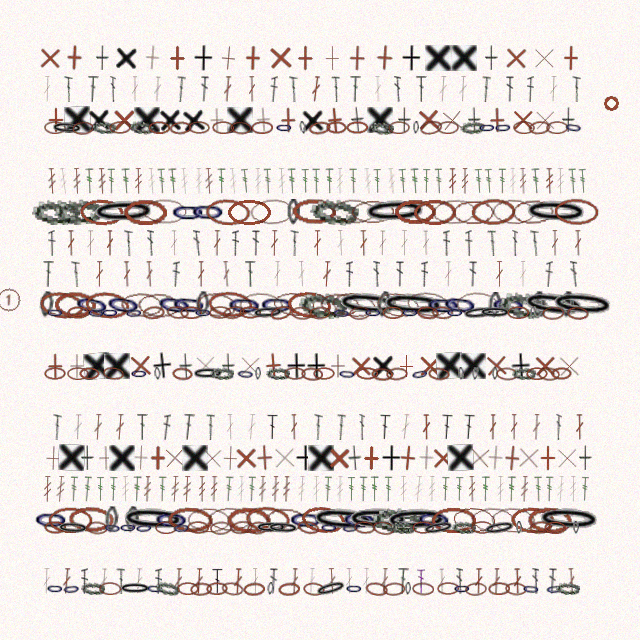chain: (520, 288, 587, 322), (335, 289, 402, 320), (549, 289, 616, 320), (380, 290, 446, 320), (310, 505, 376, 535), (362, 197, 428, 226), (120, 505, 186, 534), (536, 505, 602, 534), (523, 198, 589, 226), (91, 198, 156, 226), (384, 506, 449, 534), (346, 506, 411, 533), (38, 289, 86, 321), (374, 289, 421, 321), (298, 290, 348, 320), (498, 290, 548, 320), (330, 289, 377, 320), (194, 289, 240, 320), (405, 289, 451, 320), (300, 504, 346, 535), (54, 197, 103, 226), (310, 197, 359, 226), (84, 290, 131, 320), (207, 290, 254, 319), (271, 290, 317, 319), (286, 290, 332, 319), (455, 290, 501, 319), (451, 505, 497, 534), (119, 290, 164, 319), (245, 505, 290, 534), (79, 198, 125, 226), (205, 198, 251, 226), (431, 198, 477, 226), (238, 291, 284, 319), (167, 506, 213, 534), (470, 506, 516, 534), (490, 506, 536, 534), (510, 506, 556, 534), (72, 289, 112, 321), (136, 291, 181, 319), (186, 506, 231, 534), (226, 506, 271, 534), (527, 506, 572, 534), (32, 199, 80, 225), (372, 507, 420, 533), (249, 198, 295, 225), (68, 506, 114, 533), (207, 506, 253, 533), (318, 291, 362, 319), (264, 506, 308, 534), (142, 198, 187, 225), (331, 198, 376, 225), (471, 198, 516, 225), (491, 198, 536, 225), (510, 198, 555, 225), (554, 198, 599, 225), (104, 289, 143, 320), (155, 289, 194, 320), (292, 198, 336, 225), (350, 199, 395, 225), (48, 507, 93, 533), (431, 507, 476, 533), (54, 291, 97, 318), (123, 199, 167, 225), (227, 199, 271, 225), (413, 199, 457, 225), (451, 199, 495, 225), (394, 199, 437, 225), (170, 290, 208, 319), (441, 290, 479, 319), (415, 505, 453, 534), (226, 291, 263, 319), (425, 291, 462, 319), (490, 291, 527, 319), (153, 506, 190, 533), (341, 506, 378, 533), (190, 198, 226, 225), (259, 291, 295, 318), (33, 506, 69, 533), (288, 506, 324, 533), (170, 199, 206, 225), (314, 578, 348, 599), (422, 519, 455, 537), (483, 519, 516, 537), (462, 305, 495, 321), (252, 305, 284, 320), (269, 303, 293, 322), (51, 121, 83, 135), (57, 521, 89, 535), (267, 521, 299, 535), (376, 291, 392, 318), (124, 506, 140, 533), (155, 580, 180, 597), (479, 306, 511, 319), (192, 367, 224, 380), (255, 521, 287, 534), (119, 582, 151, 595), (419, 119, 443, 136), (222, 304, 246, 321), (296, 519, 320, 536), (39, 291, 54, 318), (195, 291, 210, 318), (531, 291, 546, 318), (560, 291, 575, 318), (104, 506, 119, 533), (129, 120, 154, 135), (460, 120, 485, 135), (308, 120, 331, 136), (372, 520, 395, 536), (221, 581, 244, 597), (365, 581, 388, 597), (488, 292, 502, 318), (528, 120, 551, 135), (142, 305, 165, 320), (166, 305, 189, 320), (416, 305, 439, 320), (431, 305, 454, 320), (102, 366, 125, 381), (230, 520, 253, 535), (353, 520, 376, 535), (529, 520, 552, 535), (287, 199, 300, 225), (370, 121, 394, 135), (169, 121, 192, 135), (566, 306, 589, 320), (410, 366, 430, 382), (92, 121, 116, 134), (210, 367, 234, 380), (266, 367, 290, 380), (512, 367, 536, 380), (391, 521, 415, 534), (452, 521, 476, 534), (81, 582, 105, 595), (556, 582, 580, 595), (72, 121, 94, 135), (230, 121, 252, 135), (291, 306, 313, 320), (309, 306, 331, 320), (349, 306, 371, 320), (542, 306, 564, 320), (301, 367, 323, 381), (371, 367, 393, 381), (386, 367, 408, 381), (428, 367, 450, 381), (496, 367, 518, 381), (538, 367, 560, 381), (86, 521, 108, 535), (210, 521, 232, 535), (247, 521, 269, 535), (190, 582, 212, 596), (243, 582, 265, 596), (278, 582, 300, 596), (303, 582, 325, 596), (383, 582, 405, 596), (412, 582, 434, 596), (465, 582, 487, 596), (505, 582, 527, 596), (172, 367, 193, 381), (44, 121, 66, 134), (109, 121, 131, 134), (148, 121, 170, 134), (188, 121, 210, 134), (212, 121, 234, 134), (251, 121, 273, 134), (346, 121, 368, 134), (388, 121, 410, 134), (437, 121, 459, 134), (513, 121, 535, 134), (546, 121, 568, 134), (67, 306, 89, 319), (180, 306, 202, 319), (209, 306, 231, 319), (239, 306, 261, 319), (382, 306, 404, 319), (507, 306, 529, 319), (44, 367, 66, 380), (67, 367, 89, 380), (284, 367, 306, 380), (313, 367, 335, 380), (356, 367, 378, 380), (526, 367, 548, 380), (44, 521, 66, 534), (155, 521, 177, 534), (187, 521, 209, 534), (412, 521, 434, 534), (471, 521, 493, 534), (544, 521, 566, 534), (99, 582, 121, 595), (177, 582, 199, 595), (206, 582, 228, 595), (437, 582, 459, 595), (488, 582, 510, 595), (564, 120, 583, 135), (326, 121, 347, 134), (79, 367, 100, 380), (551, 367, 572, 380), (332, 306, 351, 320), (236, 367, 255, 381), (103, 521, 122, 535), (172, 521, 191, 535), (341, 521, 360, 535), (62, 582, 81, 596), (545, 582, 564, 596), (87, 306, 105, 320), (125, 306, 143, 320), (338, 367, 356, 381), (135, 521, 153, 535), (522, 582, 540, 596), (275, 121, 293, 134), (478, 121, 496, 134), (494, 121, 512, 134), (46, 306, 64, 319), (101, 306, 119, 319), (194, 306, 212, 319), (364, 306, 382, 319), (401, 306, 419, 319), (446, 306, 464, 319), (130, 367, 148, 380), (119, 521, 137, 534), (320, 521, 338, 534), (46, 582, 64, 595), (146, 582, 164, 595), (345, 582, 363, 595), (453, 582, 471, 595), (299, 121, 307, 134), (154, 367, 161, 380), (472, 367, 479, 380), (267, 582, 274, 595), (413, 121, 419, 134), (530, 306, 536, 319), (255, 367, 261, 380), (458, 367, 464, 380), (492, 367, 498, 380), (516, 521, 522, 534), (573, 521, 579, 534), (405, 582, 411, 595)
double: (182, 414, 195, 440), (87, 76, 99, 102), (310, 76, 322, 102), (379, 414, 391, 440), (441, 414, 453, 440), (463, 414, 475, 440), (397, 568, 409, 594), (175, 76, 186, 102), (350, 76, 361, 102), (416, 76, 427, 102), (480, 76, 491, 102), (43, 261, 54, 287), (245, 261, 256, 287), (137, 414, 148, 440), (246, 414, 257, 440), (267, 414, 278, 440), (335, 414, 346, 440), (400, 414, 411, 440), (61, 568, 72, 594), (133, 568, 144, 594), (212, 568, 223, 594), (438, 76, 448, 102), (458, 76, 468, 102), (487, 230, 497, 256), (530, 230, 540, 256), (71, 261, 81, 287), (322, 261, 332, 287), (52, 414, 62, 440), (73, 414, 83, 440), (93, 414, 103, 440), (115, 414, 125, 440), (205, 414, 215, 440), (313, 414, 323, 440), (194, 568, 204, 594), (233, 568, 243, 594), (327, 568, 337, 594), (64, 76, 73, 102), (153, 76, 162, 102), (200, 76, 209, 102), (223, 76, 232, 102), (289, 76, 298, 102), (331, 76, 340, 102), (549, 76, 558, 102), (572, 76, 581, 102), (86, 230, 95, 256), (124, 230, 133, 256), (270, 230, 279, 256), (290, 230, 299, 256), (313, 230, 322, 256), (336, 230, 345, 256), (359, 230, 368, 256), (378, 230, 387, 256), (400, 230, 409, 256), (95, 261, 104, 287), (145, 261, 154, 287), (222, 261, 231, 287), (297, 261, 306, 287), (495, 261, 504, 287), (162, 414, 171, 440), (422, 414, 431, 440), (532, 414, 541, 440), (575, 414, 584, 440), (42, 568, 51, 594), (99, 568, 108, 594), (116, 568, 125, 594), (174, 568, 183, 594), (269, 568, 278, 594), (290, 568, 299, 594), (307, 568, 316, 594), (380, 568, 389, 594), (474, 568, 483, 594), (492, 568, 501, 594), (513, 568, 522, 594), (548, 568, 557, 594), (567, 568, 576, 594), (43, 76, 51, 102), (131, 76, 139, 102), (248, 76, 256, 102), (270, 76, 278, 102), (374, 76, 382, 102), (506, 76, 514, 102), (48, 230, 56, 256), (67, 230, 75, 256), (106, 230, 114, 256), (170, 230, 178, 256), (193, 230, 201, 256), (213, 230, 221, 256), (252, 230, 260, 256), (422, 230, 430, 256), (465, 230, 473, 256), (551, 230, 559, 256), (574, 230, 582, 256), (123, 261, 131, 287), (172, 261, 180, 287), (197, 261, 205, 287), (273, 261, 281, 287), (396, 261, 404, 287), (444, 261, 452, 287), (469, 261, 477, 287), (519, 261, 527, 287), (545, 261, 553, 287), (570, 261, 578, 287), (226, 414, 234, 440), (290, 414, 298, 440), (489, 414, 497, 440), (510, 414, 518, 440), (251, 568, 259, 594), (345, 568, 353, 594), (362, 568, 370, 594), (417, 568, 425, 594), (438, 568, 446, 594), (394, 76, 401, 102), (527, 76, 534, 102), (147, 230, 154, 256), (232, 230, 239, 256), (443, 230, 450, 256), (346, 261, 353, 287), (373, 261, 380, 287), (421, 261, 428, 287), (555, 414, 562, 440), (81, 568, 88, 594), (155, 568, 162, 594), (456, 568, 463, 594), (532, 568, 539, 594), (110, 76, 116, 102), (512, 230, 518, 256), (359, 414, 365, 440)
noise: (0, 286, 23, 314), (601, 93, 621, 113)
single: (214, 44, 242, 72), (321, 106, 349, 134), (438, 106, 466, 134), (83, 352, 111, 380), (394, 444, 422, 472), (498, 444, 526, 472), (61, 44, 88, 71), (139, 44, 166, 71), (267, 44, 294, 71), (371, 44, 398, 71), (64, 106, 91, 133), (250, 106, 277, 133), (415, 106, 442, 133), (127, 352, 154, 379), (192, 352, 219, 379), (260, 352, 287, 379), (436, 352, 463, 379), (483, 352, 510, 379), (58, 444, 85, 471), (161, 444, 188, 471), (251, 444, 278, 471), (271, 444, 298, 471), (413, 444, 440, 471), (447, 444, 474, 471), (466, 444, 493, 471), (482, 444, 509, 471), (515, 444, 542, 471), (181, 106, 207, 134), (128, 444, 154, 471), (37, 45, 63, 71), (164, 45, 190, 71), (240, 45, 266, 71), (292, 45, 318, 71), (319, 45, 345, 71), (344, 45, 370, 71), (425, 45, 451, 71), (451, 45, 477, 71), (503, 45, 529, 71), (531, 45, 557, 71), (558, 45, 584, 71), (43, 107, 69, 133), (111, 107, 137, 133), (134, 107, 160, 133), (204, 107, 230, 133), (227, 107, 253, 133), (275, 107, 301, 133), (367, 107, 393, 133), (484, 107, 510, 133), (510, 107, 536, 133), (532, 107, 558, 133), (42, 353, 68, 379), (64, 353, 90, 379), (104, 353, 130, 379), (237, 353, 263, 379), (325, 353, 351, 379), (348, 353, 374, 379), (393, 353, 419, 379), (417, 353, 443, 379), (460, 353, 486, 379), (532, 353, 558, 379), (556, 353, 582, 379), (40, 445, 66, 471), (93, 445, 119, 471), (109, 445, 135, 471), (145, 445, 171, 471), (182, 445, 208, 471), (199, 445, 225, 471), (217, 445, 243, 471), (233, 445, 259, 471), (308, 445, 334, 471), (326, 445, 352, 471), (358, 445, 384, 471), (430, 445, 456, 471), (535, 445, 561, 471), (554, 445, 580, 471), (114, 44, 139, 71), (87, 106, 112, 133), (158, 106, 183, 133), (371, 352, 396, 379), (301, 107, 325, 133), (151, 352, 173, 379), (510, 353, 531, 379), (193, 45, 213, 71), (401, 45, 421, 71), (286, 353, 306, 379), (306, 353, 326, 379), (295, 445, 315, 471), (381, 445, 401, 471), (350, 106, 365, 133), (179, 353, 193, 379), (348, 445, 362, 471), (96, 45, 109, 71), (485, 45, 498, 71), (398, 107, 411, 133), (468, 107, 481, 133), (562, 107, 575, 133), (222, 353, 235, 379), (81, 445, 94, 471), (579, 445, 592, 471)
treble: (58, 168, 69, 194), (179, 168, 190, 194), (240, 168, 251, 194), (55, 476, 66, 502), (82, 476, 93, 502), (413, 476, 424, 502), (47, 168, 57, 194), (72, 168, 82, 194), (97, 168, 107, 194), (121, 168, 131, 194), (157, 168, 167, 194), (168, 168, 178, 194), (204, 168, 214, 194), (228, 168, 238, 194), (263, 168, 273, 194), (277, 168, 287, 194), (287, 168, 297, 194), (363, 168, 373, 194), (387, 168, 397, 194), (398, 168, 408, 194), (410, 168, 420, 194), (434, 168, 444, 194), (474, 168, 484, 194), (484, 168, 494, 194), (531, 168, 541, 194), (568, 168, 578, 194), (578, 168, 588, 194), (69, 476, 79, 502), (132, 476, 142, 502), (170, 476, 180, 502), (182, 476, 192, 502), (224, 476, 234, 502), (247, 476, 257, 502), (323, 476, 333, 502), (580, 476, 590, 502), (85, 168, 94, 194), (107, 168, 116, 194), (134, 168, 143, 194), (147, 168, 156, 194), (217, 168, 226, 194), (301, 168, 310, 194), (312, 168, 321, 194), (325, 168, 334, 194), (349, 168, 358, 194), (373, 168, 382, 194), (422, 168, 431, 194), (448, 168, 457, 194), (498, 168, 507, 194), (545, 168, 554, 194), (556, 168, 565, 194), (43, 476, 52, 502), (96, 476, 105, 502), (109, 476, 118, 502), (121, 476, 130, 502), (143, 476, 152, 502), (158, 476, 167, 502), (258, 476, 267, 502), (271, 476, 280, 502), (282, 476, 291, 502), (297, 476, 306, 502), (312, 476, 321, 502), (347, 476, 356, 502), (359, 476, 368, 502), (370, 476, 379, 502), (384, 476, 393, 502), (399, 476, 408, 502), (441, 476, 450, 502), (455, 476, 464, 502), (481, 476, 490, 502), (496, 476, 505, 502), (507, 476, 516, 502), (520, 476, 529, 502), (534, 476, 543, 502), (545, 476, 554, 502), (556, 476, 565, 502), (195, 168, 203, 194), (254, 168, 262, 194), (336, 168, 344, 194), (461, 168, 469, 194), (509, 168, 517, 194), (519, 168, 527, 194), (198, 476, 206, 502), (210, 476, 218, 502), (237, 476, 245, 502), (336, 476, 344, 502), (428, 476, 436, 502), (468, 476, 476, 502), (569, 476, 577, 502)
